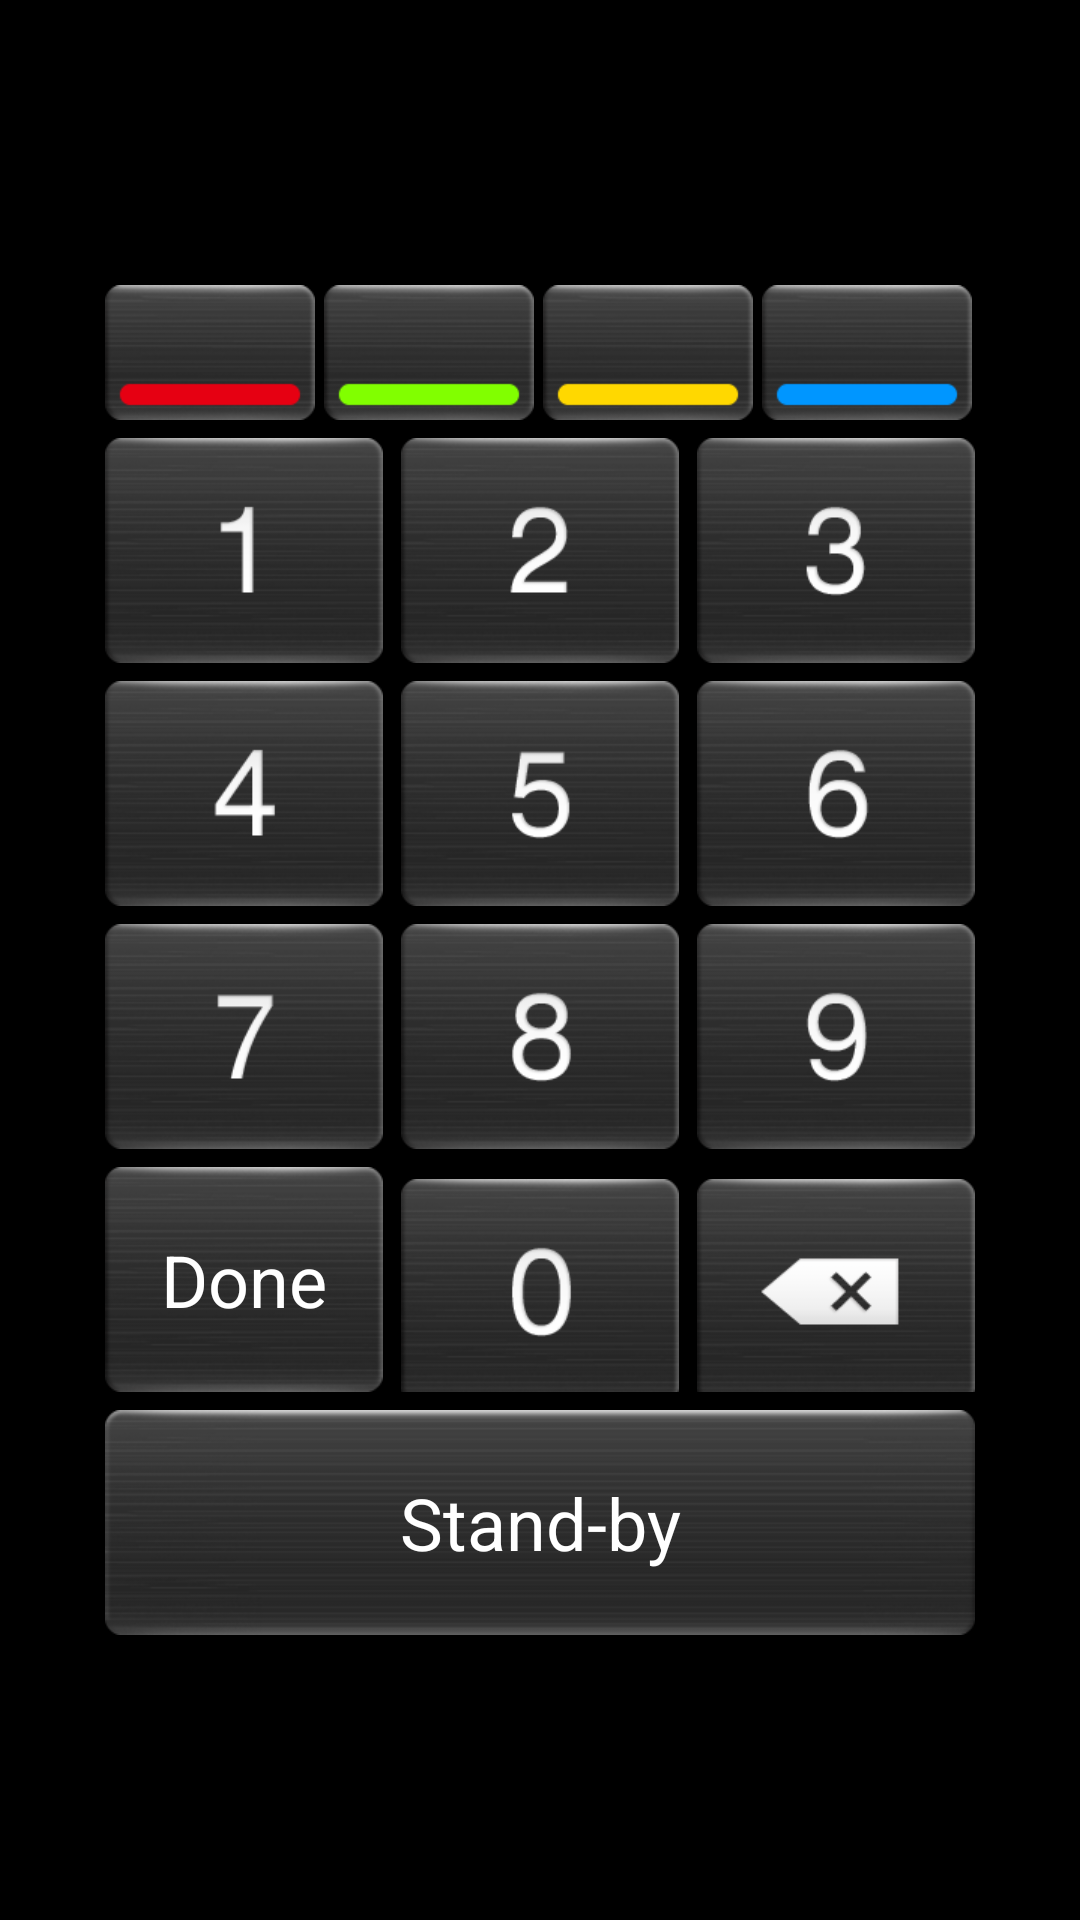

Icons on this 1080px x 1920px Android screen, each with the point to tap as [x,y]:
remote number del: [836,1285]
